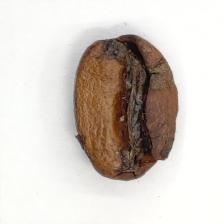NG: (100, 37, 164, 176)
